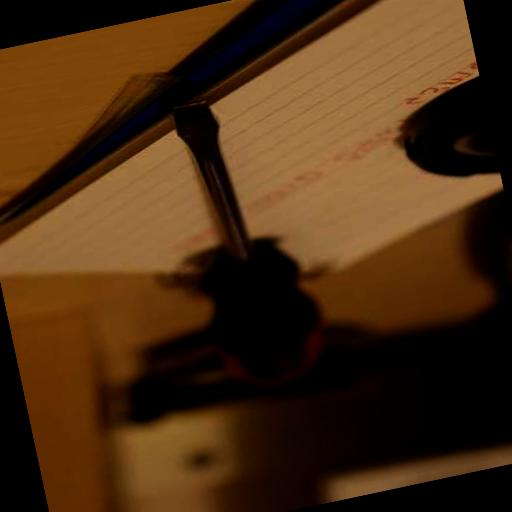screwdriver: (158, 87, 334, 401)
